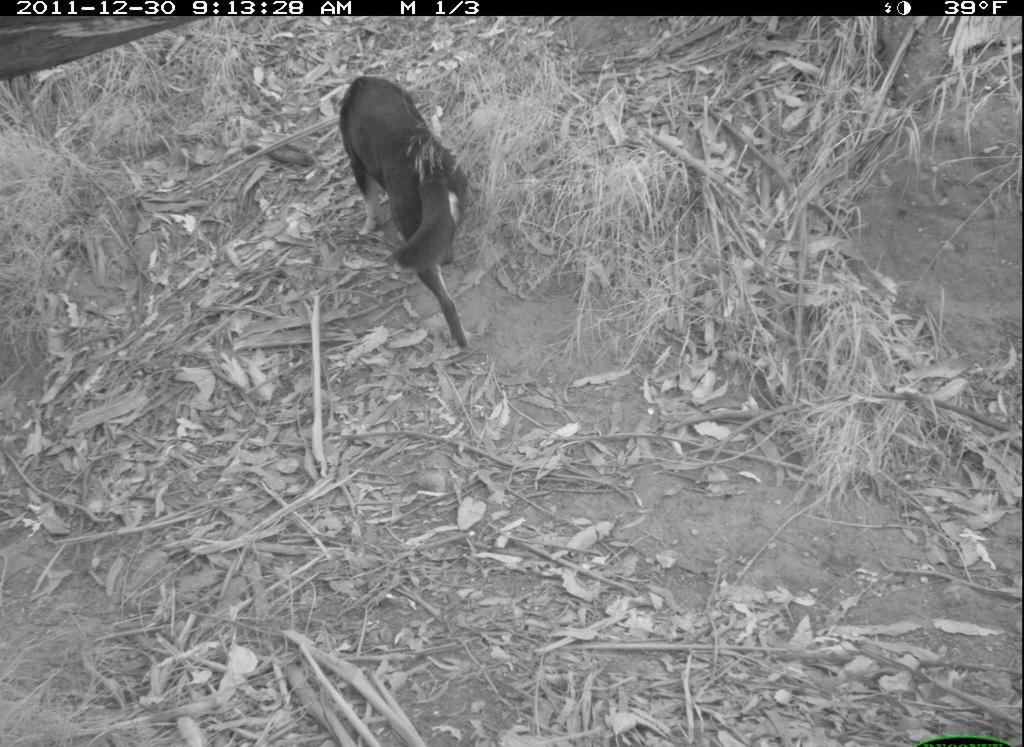dog: (305, 63, 537, 381)
